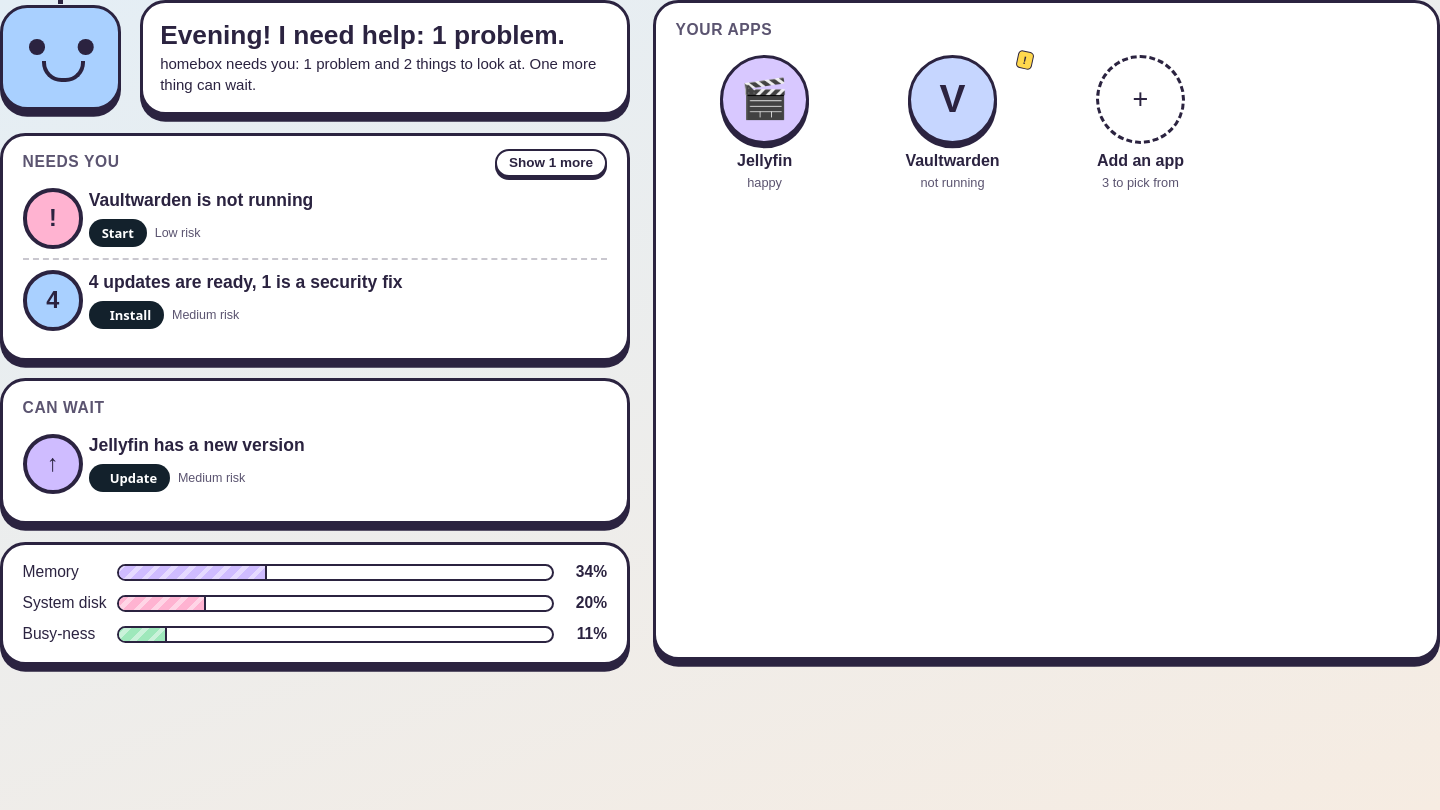
Scenario: Home in the Toybox look › shows what can be fixed from here in its two rows before a note with nothing to press
expect the button named "Needs a look: 4 updates" is shown: met, box [89,272,403,293]
Click the button "Show 1 more" at point(551, 163), box [495,149,607,177]
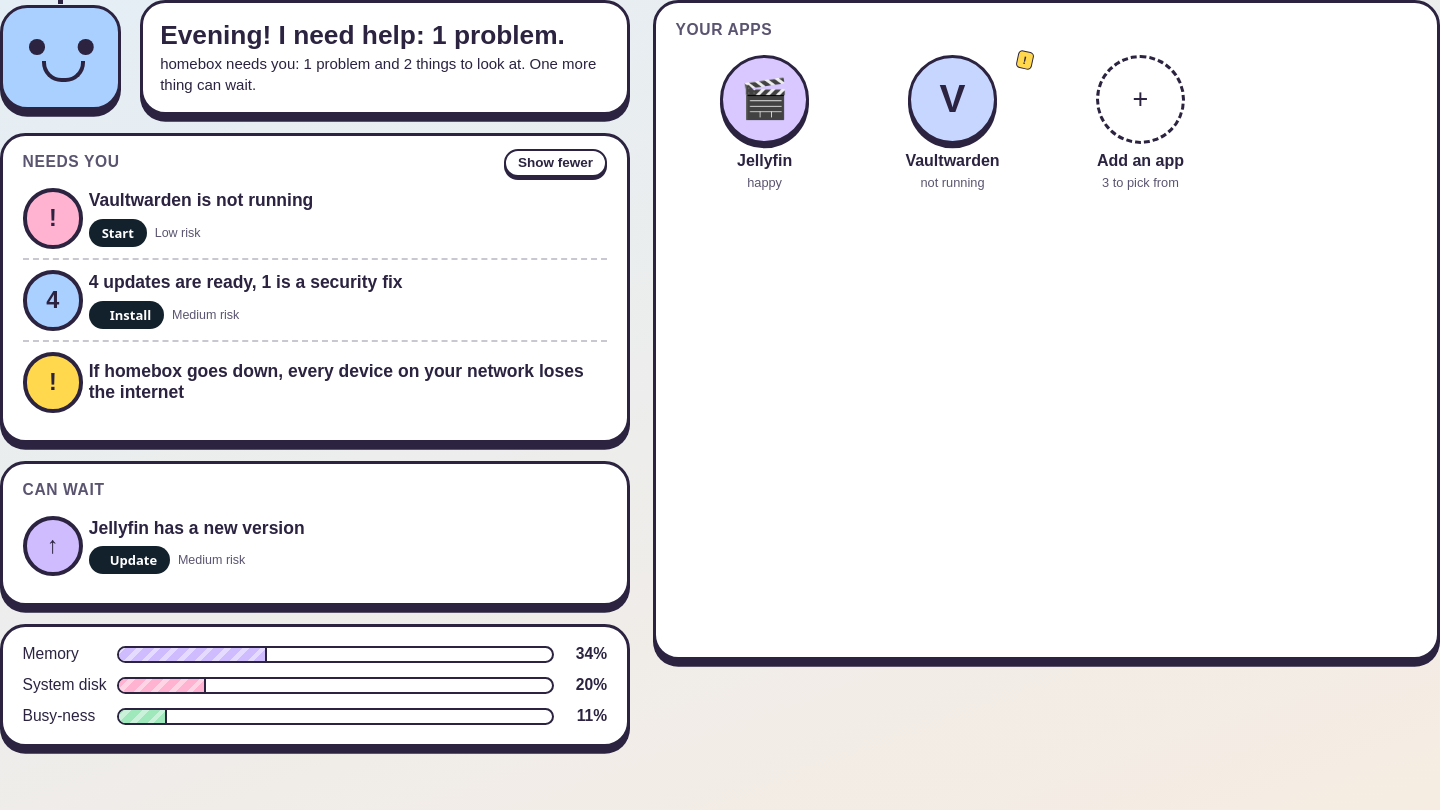
expect the button named "Needs a look: If homebox goes down, every device on your network loses the internet" is shown: met, box [89,362,607,404]
